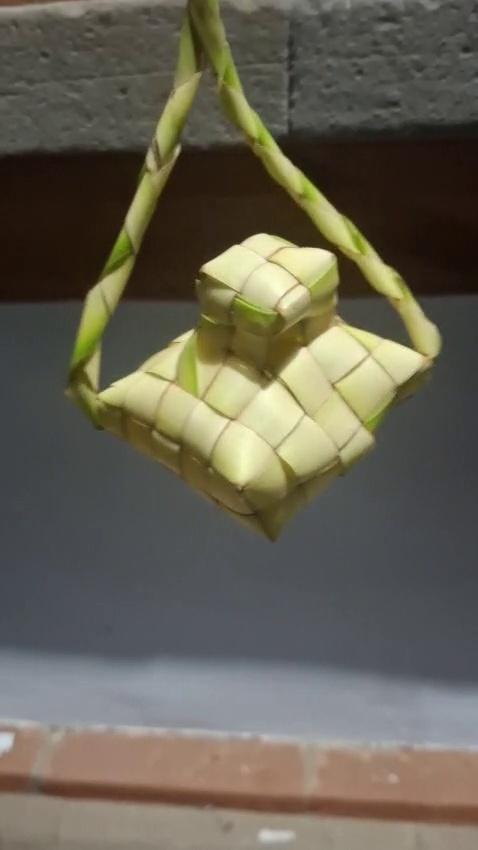Tipat Gong: (64, 0, 440, 543)
